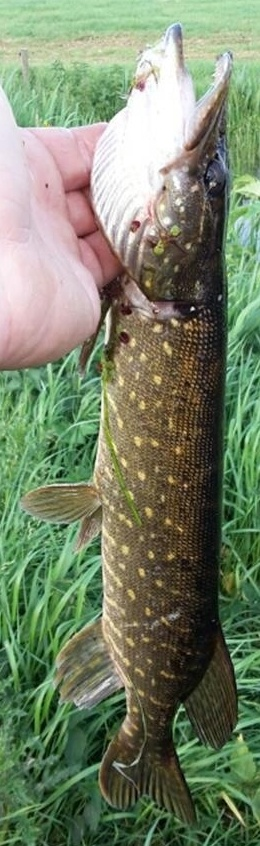Esox lucius: (20, 20, 240, 826)
